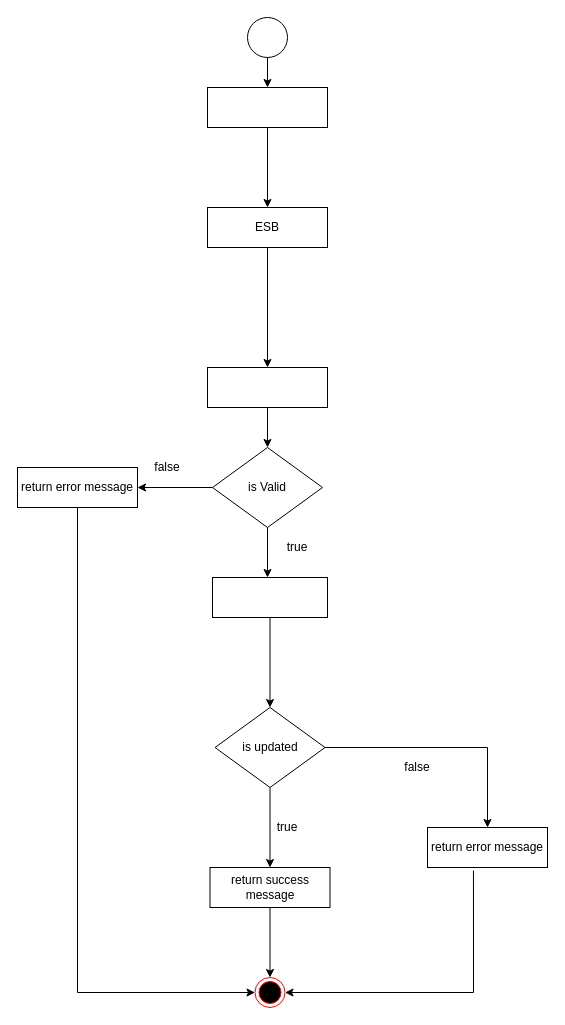
Some shapes in this 565 by 1025 pixel diagram are drawn without their labels. Here are the shapes that lost their labels. From the top down, the box of each, then its label:
(206, 86, 328, 128): Reset Password
(206, 366, 328, 408): Validate Reset Token
(212, 576, 328, 618): Get new password, hash the password and save
